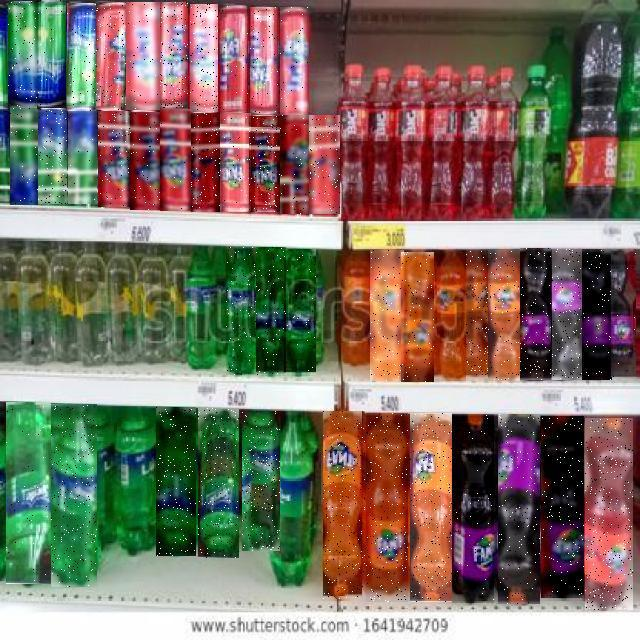Drinks: (585, 418, 633, 610), (51, 404, 97, 587), (6, 402, 51, 584), (498, 414, 540, 604), (367, 413, 409, 602), (410, 413, 452, 602), (452, 414, 494, 603), (324, 412, 366, 600), (541, 416, 584, 598), (198, 408, 239, 558), (156, 407, 196, 556), (242, 411, 280, 551), (432, 250, 466, 382), (370, 250, 404, 381), (401, 252, 434, 382), (488, 250, 520, 381), (520, 248, 551, 380), (284, 250, 316, 376), (226, 247, 257, 375), (552, 249, 582, 380), (582, 249, 612, 380), (256, 248, 286, 376), (126, 2, 160, 110), (612, 249, 640, 377), (96, 2, 126, 110), (98, 111, 131, 207), (160, 109, 191, 211), (280, 7, 309, 115), (8, 2, 37, 110), (37, 1, 66, 109), (67, 3, 96, 111), (220, 113, 251, 212), (280, 115, 311, 214), (309, 115, 340, 214), (130, 112, 161, 210), (160, 2, 188, 110), (190, 5, 218, 113), (220, 5, 248, 113), (250, 7, 278, 115), (249, 116, 280, 212), (464, 251, 488, 375), (191, 113, 220, 212), (38, 111, 67, 205), (68, 111, 97, 205), (10, 109, 38, 205)
